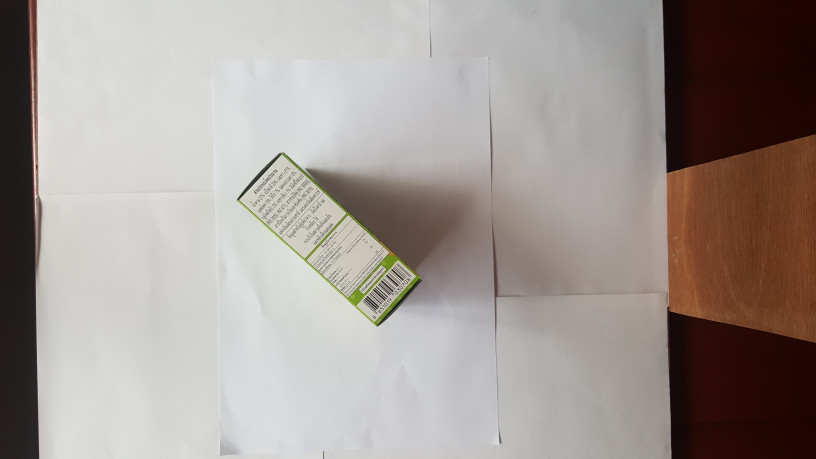collon-matcha: (235, 154, 426, 329)
